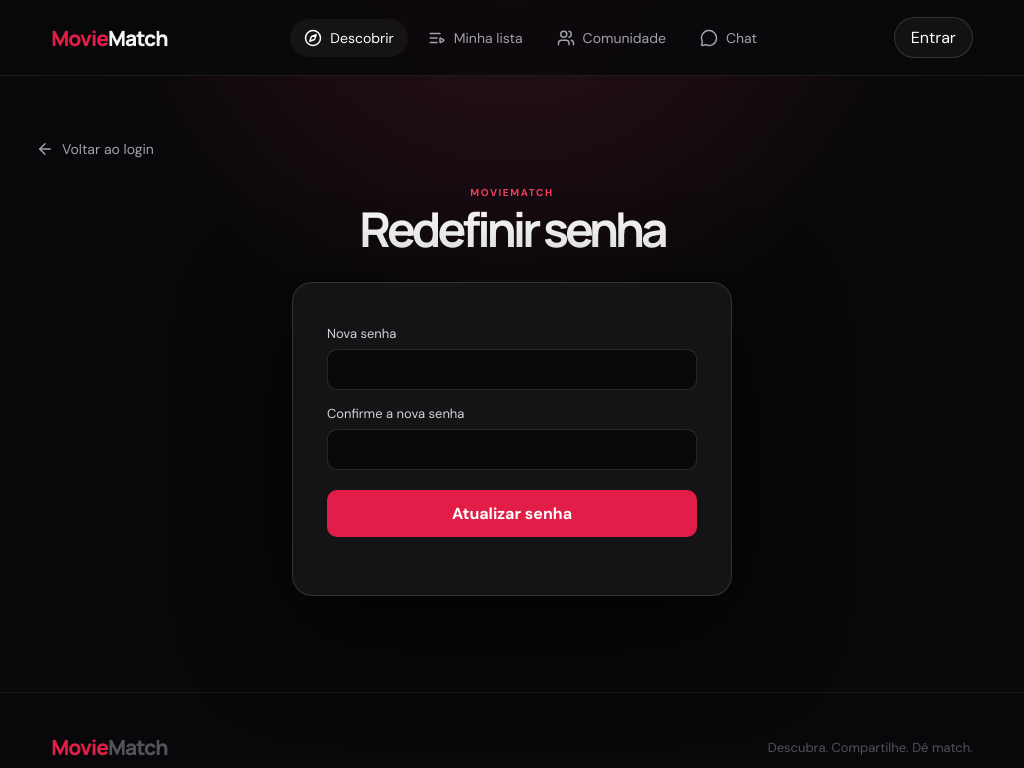
Test: MovieMatch home › consumes a reset link from the URL fragment without displaying the token
This screenshot has width=1024, height=768.
In the password field labelled "Nova senha": [512, 370] box left=327, top=349, right=697, bottom=390, type "a new secure password"
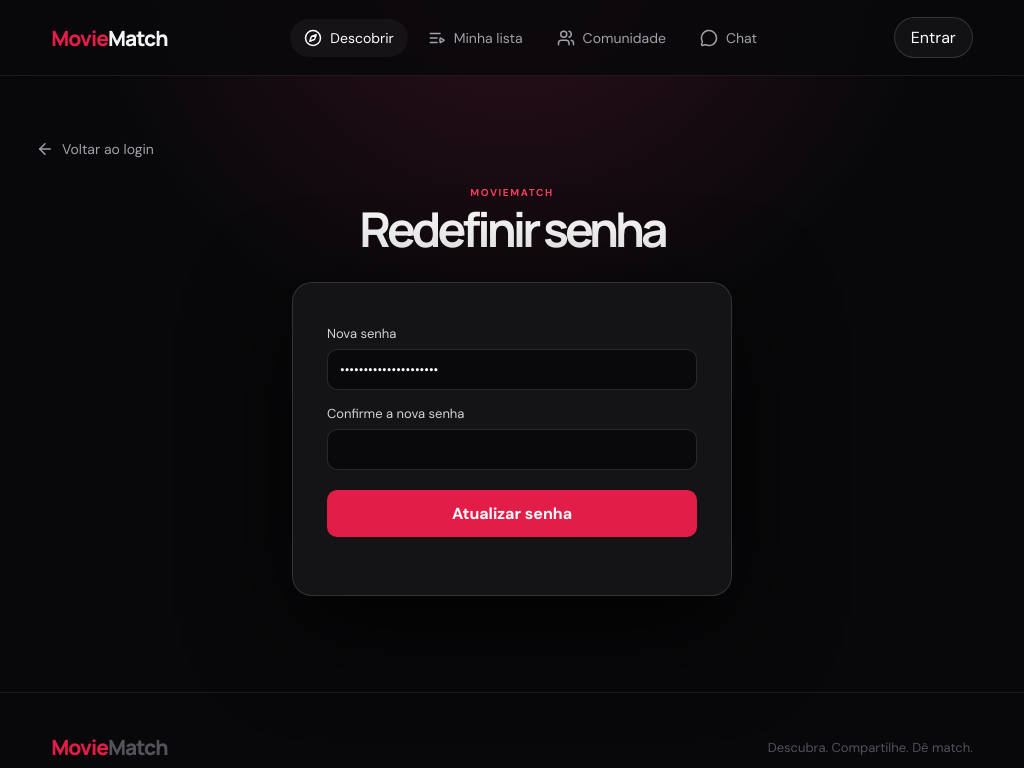
In the password field labelled "Confirme a nova senha": [512, 450] box left=327, top=429, right=697, bottom=470, type "a new secure password"
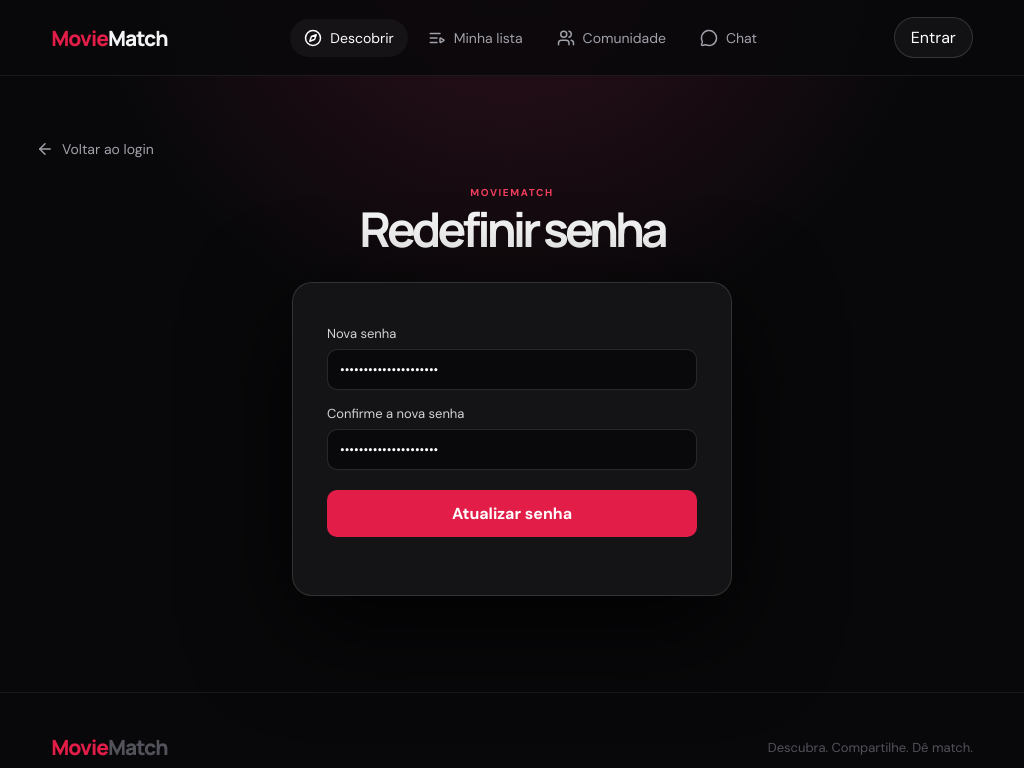
Click the button "Atualizar senha": [512, 514] box left=327, top=490, right=697, bottom=537
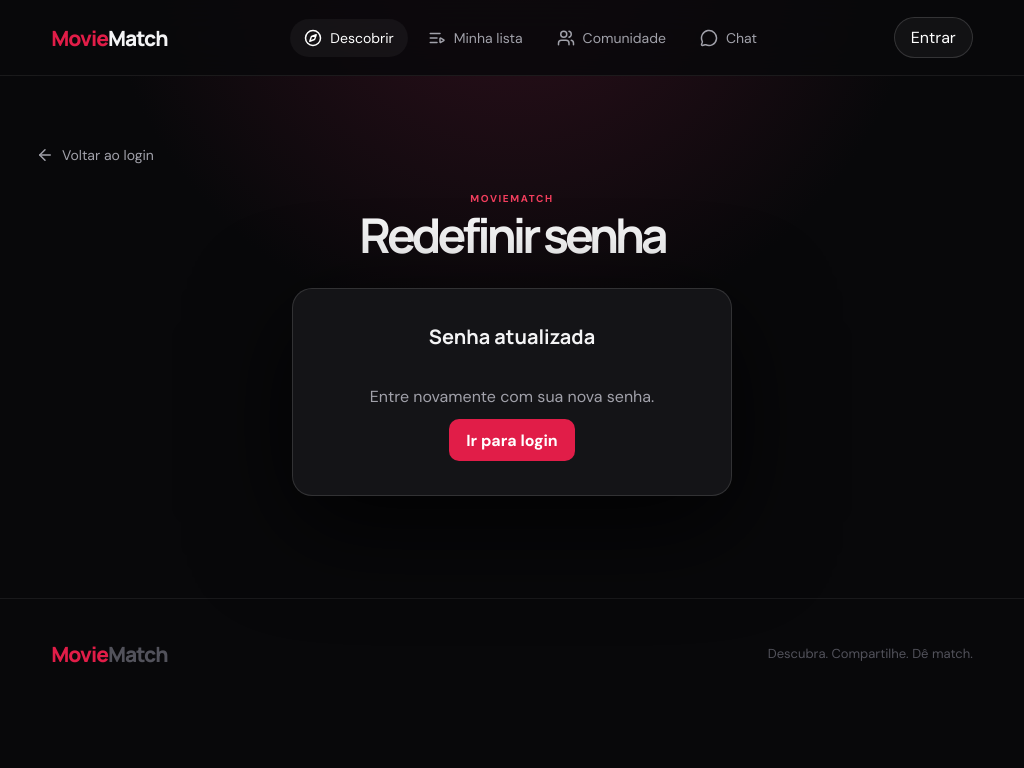
Expected: the heading "Senha atualizada" is shown, left=429, top=323, right=595, bottom=350
